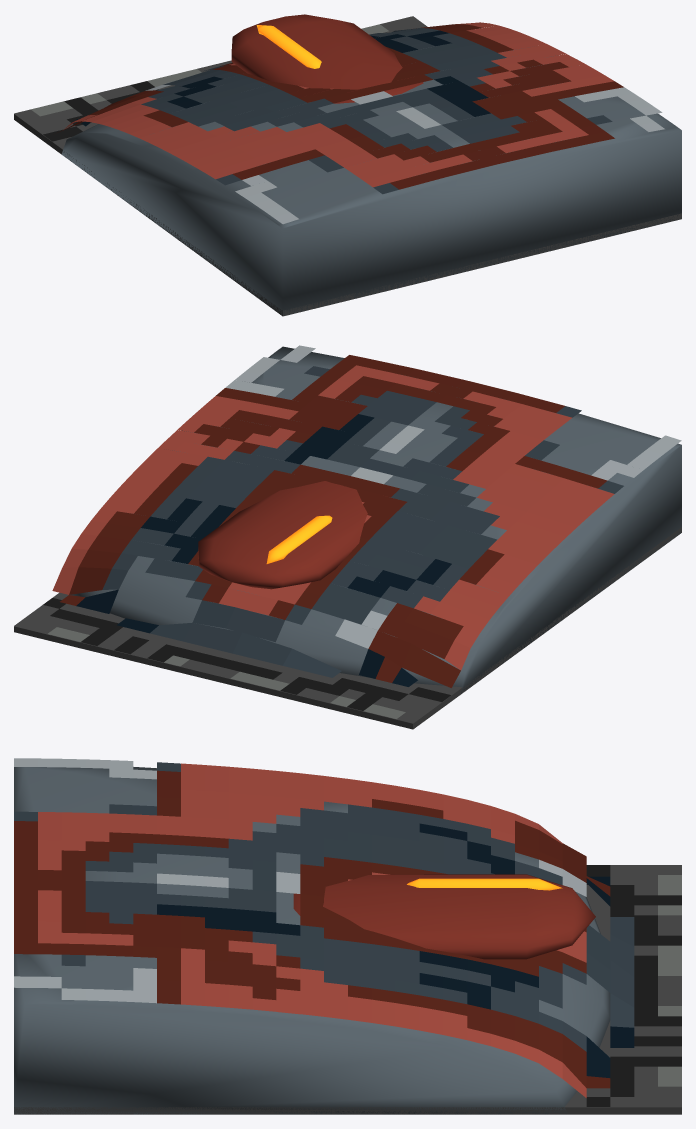
File: newshm-47.glb
The picture shows the model from 3 angles, top to bottom: view 1: azimuth 30°, elevation 25°; view 2: azimuth 150°, elevation 25°; view 3: azimuth 270°, elevation 25°; orthographic projection. The views are drawn at different scales.
Visible parts, largest first — view 1: newshm-47; view 2: newshm-47; view 3: newshm-47.
Part boxes in pixels (x1,y1,x2,y2): newshm-47: [14, 14, 681, 316]; newshm-47: [14, 345, 681, 729]; newshm-47: [14, 758, 681, 1114].
Bounding box in the file's own units: 2 × 0.4778 × 2.33.
